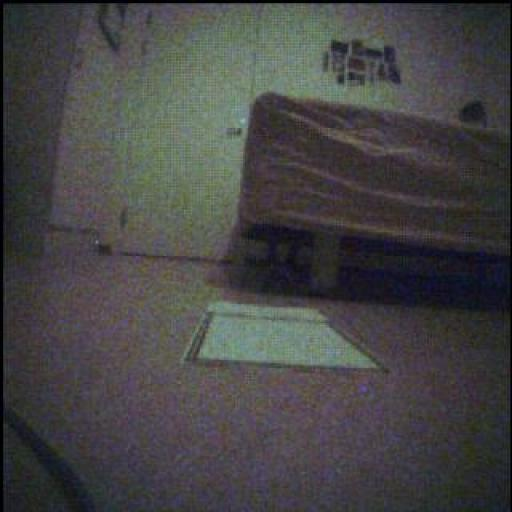pad: (183, 304, 385, 371)
